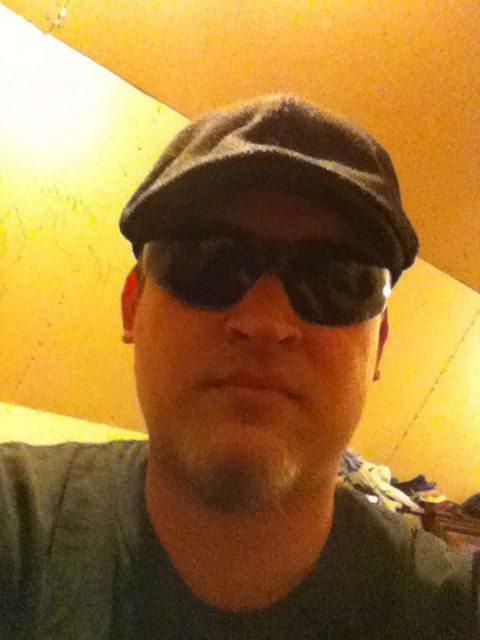sunglasses: (156, 219, 381, 325)
